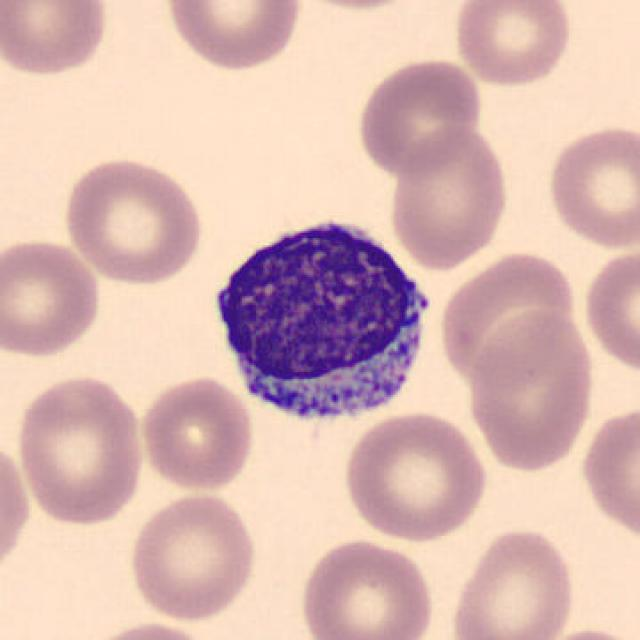Lymphocyte: (199, 203, 445, 435)
RBC: (464, 307, 599, 474), (12, 370, 150, 529), (436, 245, 583, 388), (340, 407, 490, 545), (59, 152, 208, 288), (386, 123, 512, 270), (125, 490, 262, 622), (354, 53, 485, 180), (446, 525, 580, 640), (135, 372, 258, 495), (297, 534, 437, 640), (0, 234, 105, 360), (542, 120, 638, 252), (450, 0, 574, 90), (158, 0, 306, 74), (576, 400, 638, 547), (0, 0, 114, 79), (580, 243, 638, 381), (0, 436, 34, 584), (76, 619, 218, 640)
